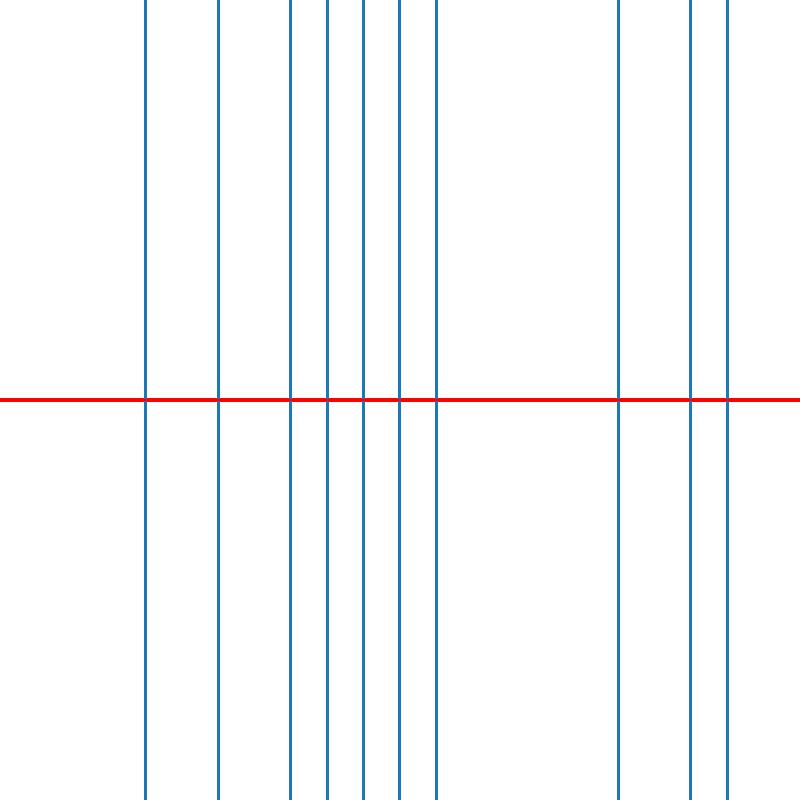root: (432, 396, 440, 404), (141, 396, 149, 404), (614, 396, 621, 404), (214, 396, 221, 404), (687, 396, 694, 404), (360, 396, 367, 404), (723, 396, 730, 404), (287, 396, 294, 404), (396, 396, 403, 404), (323, 396, 330, 404)
